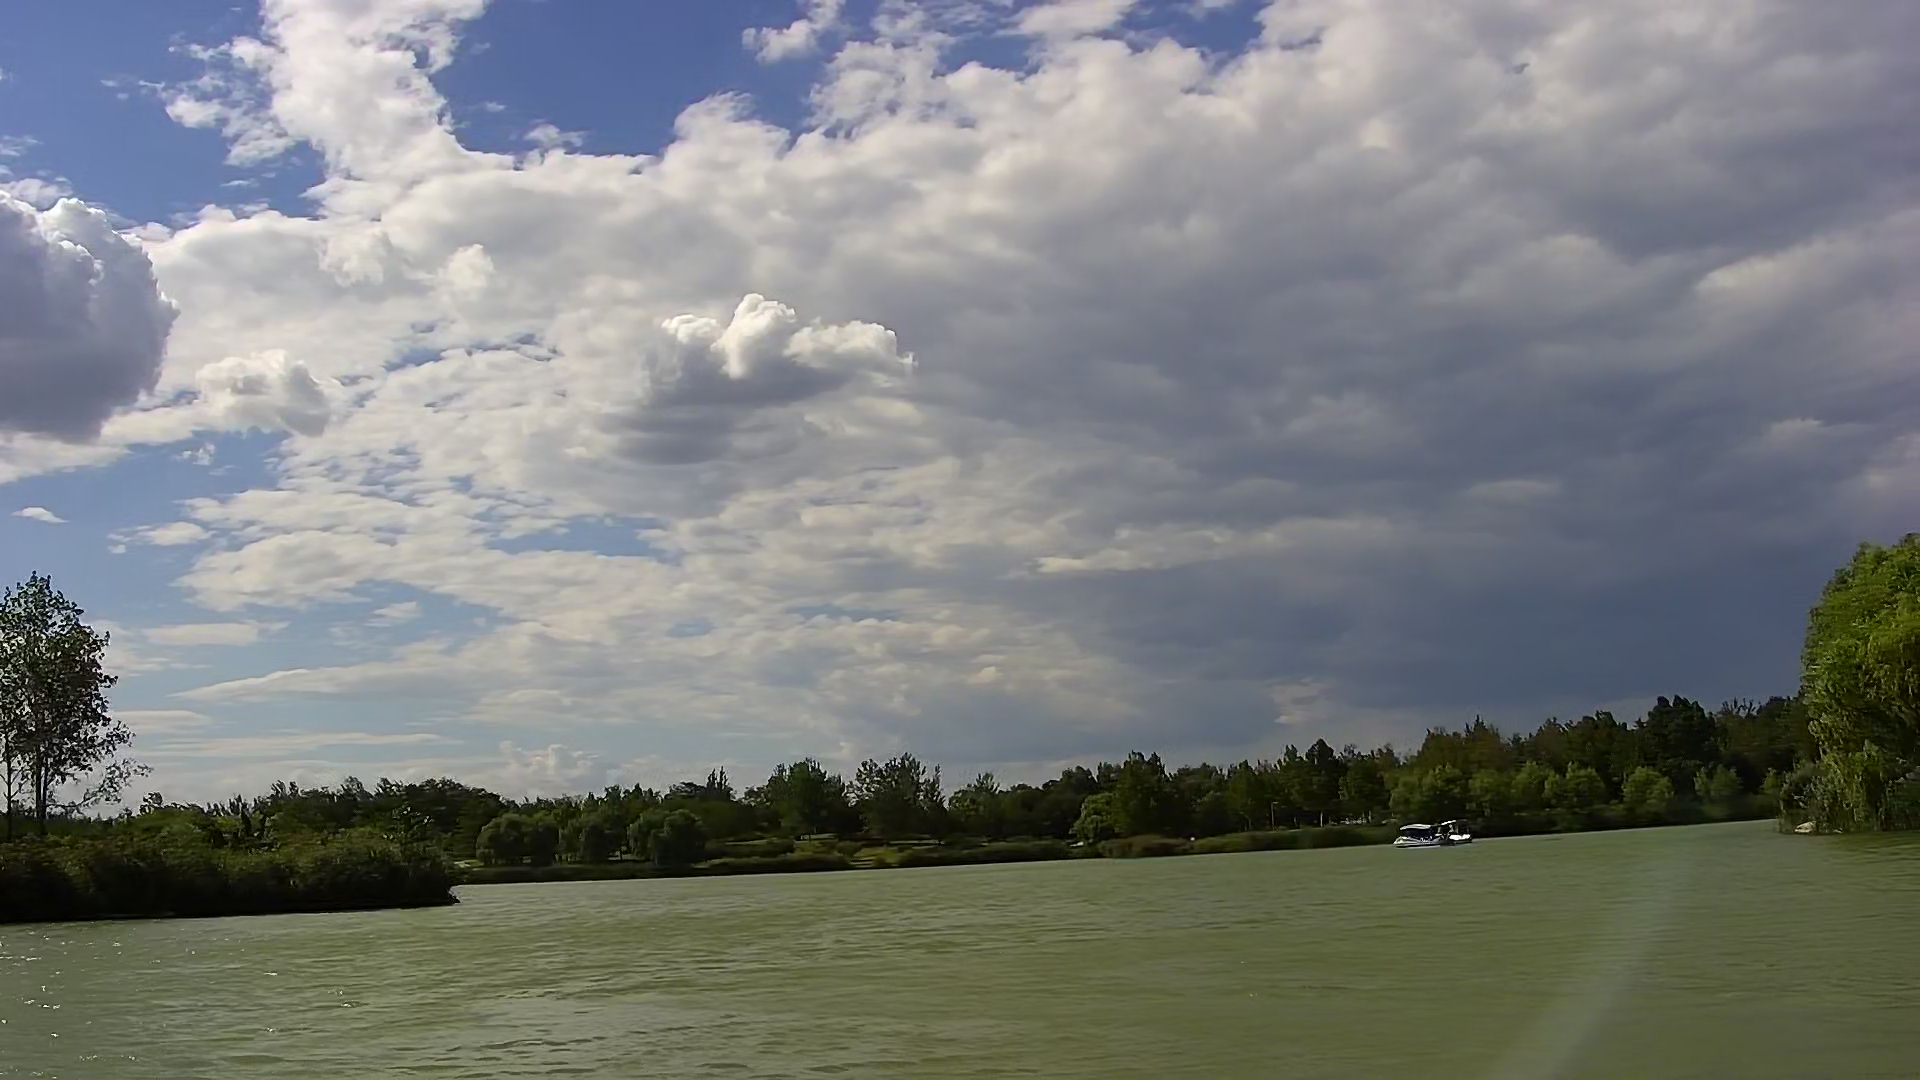boat: (1391, 822, 1445, 848), (1425, 820, 1474, 845)
rock: (1791, 818, 1818, 839)
